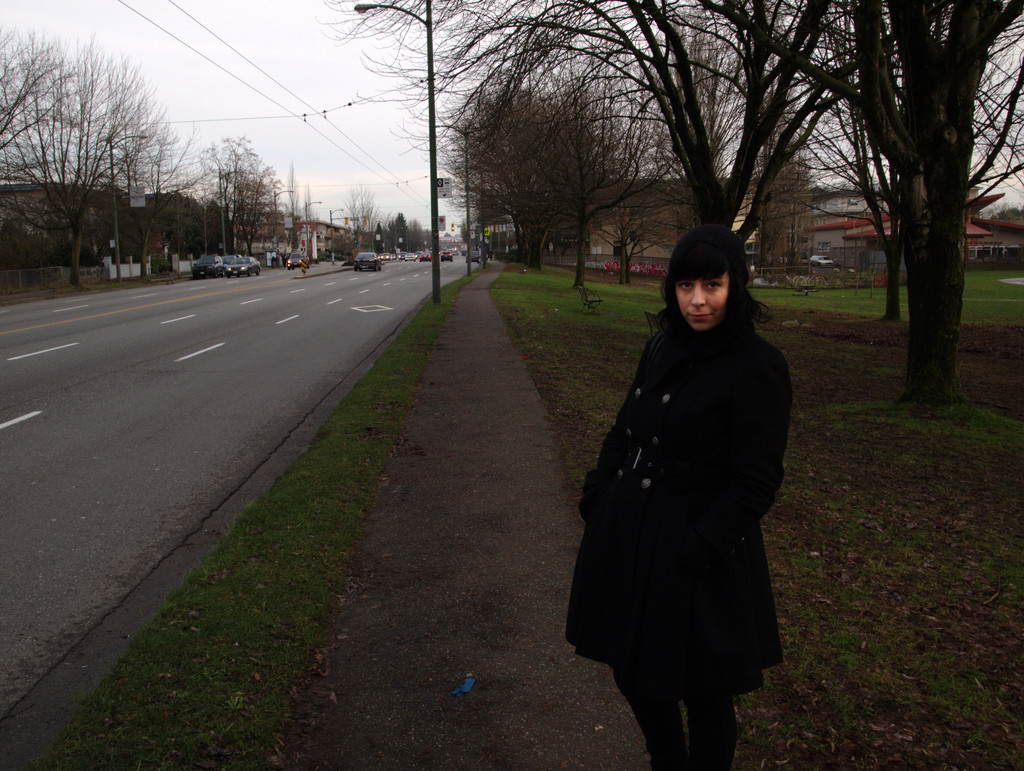Human-face: (674, 269, 728, 333)
